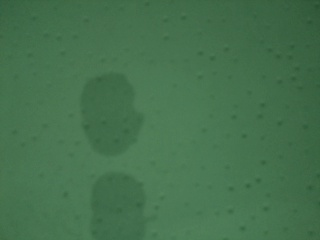Water_detected: (74, 88, 135, 235)
